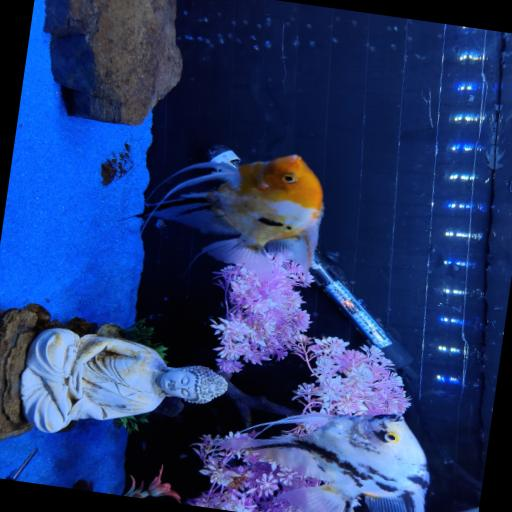Fish: (144, 155, 322, 278), (219, 412, 428, 511)
